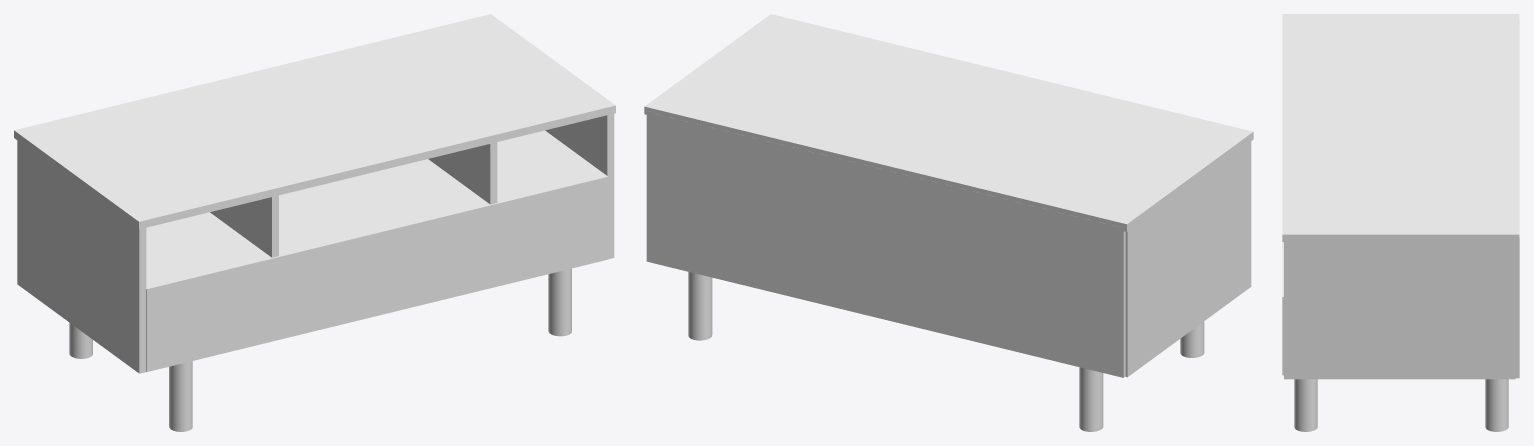
The model's file is muebletv.obj.
The picture shows the model from 3 angles, left to right: view 1: azimuth 30°, elevation 25°; view 2: azimuth 150°, elevation 25°; view 3: azimuth 270°, elevation 25°; orthographic projection. The views are drawn at different scales.
Visible parts, largest first — view 1: group5_pasted__pCube1; view 2: group5_pasted__pCube1; view 3: group5_pasted__pCube1.
Boxes of the visible parts, x1=… form: group5_pasted__pCube1: x1=14, y1=14, x2=615, y2=431; group5_pasted__pCube1: x1=644, y1=14, x2=1253, y2=431; group5_pasted__pCube1: x1=1282, y1=14, x2=1519, y2=431.
Bounding box in the file's own units: 3.37 × 1.52 × 1.53.
Materials: 1 (1 with a texture image).
